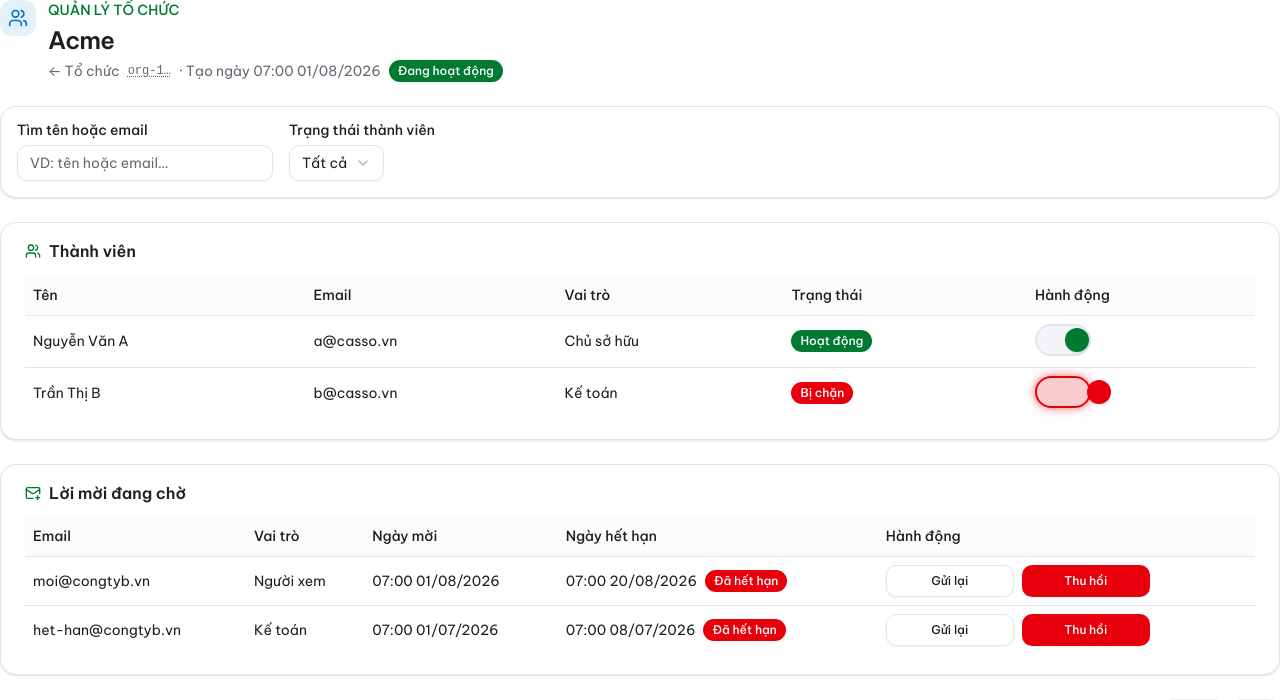
Test: AdminOrganizationMembersPage › pending invites › does not disable resend while revoke is in flight for the same row
Click the button "Thu hồi" in the row of "moi@congtyb.vn". click: click(1086, 581)
box: [1022, 565, 1150, 597]
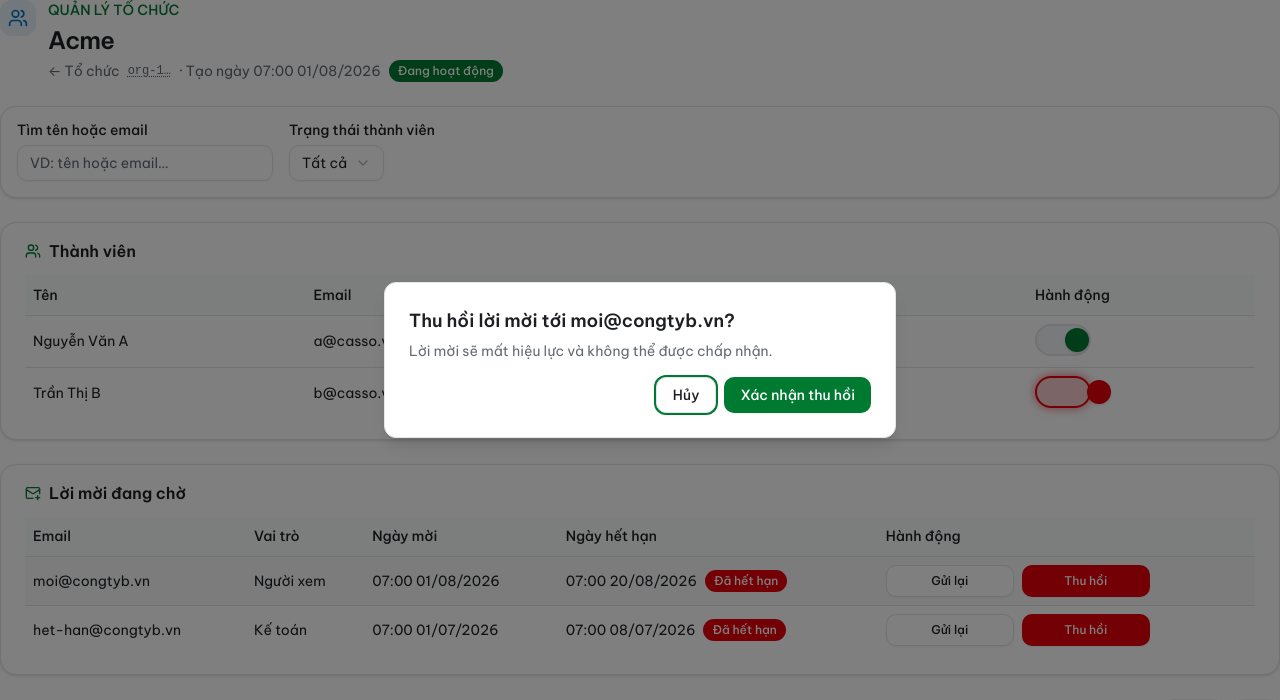
Click the button "Xác nhận thu hồi". click: click(798, 395)
box: [724, 377, 871, 413]
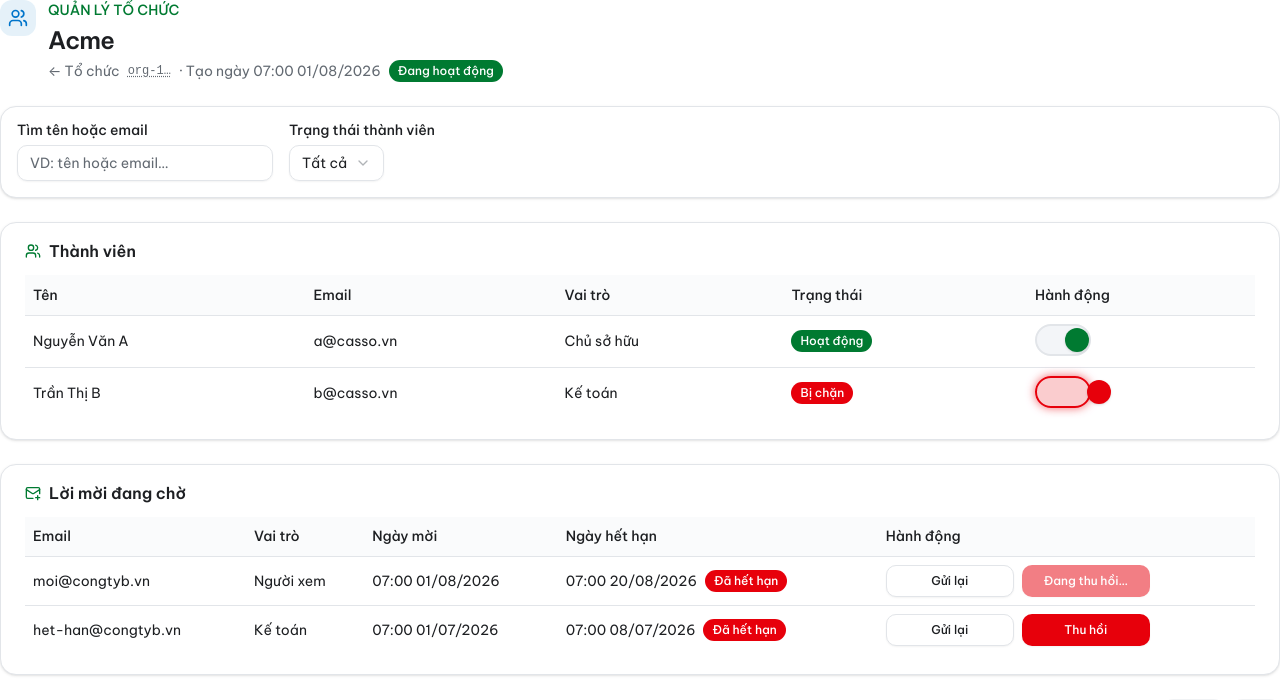
Expected: the button "Gửi lại" in the row of "moi@congtyb.vn" is enabled, [886, 565, 1014, 597]
Expected: the button "Đang thu hồi…" is shown, [1022, 565, 1150, 597]
